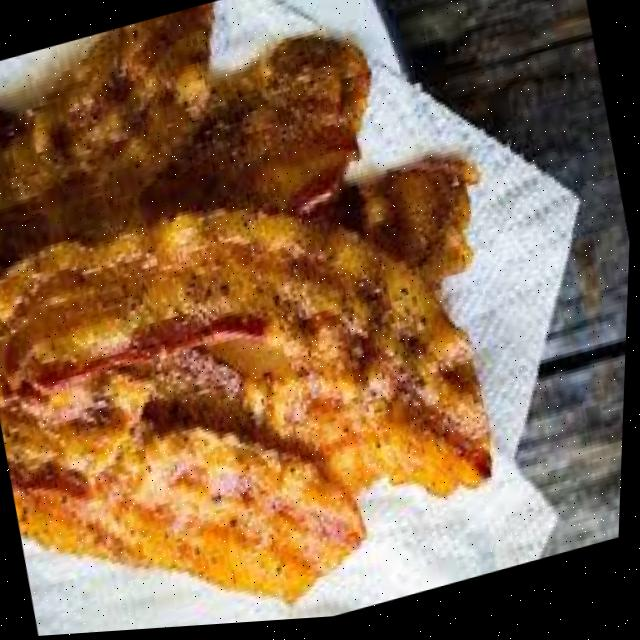Bacon: (0, 214, 492, 488), (0, 6, 366, 262), (11, 430, 368, 605), (143, 40, 370, 221), (316, 163, 481, 292)
